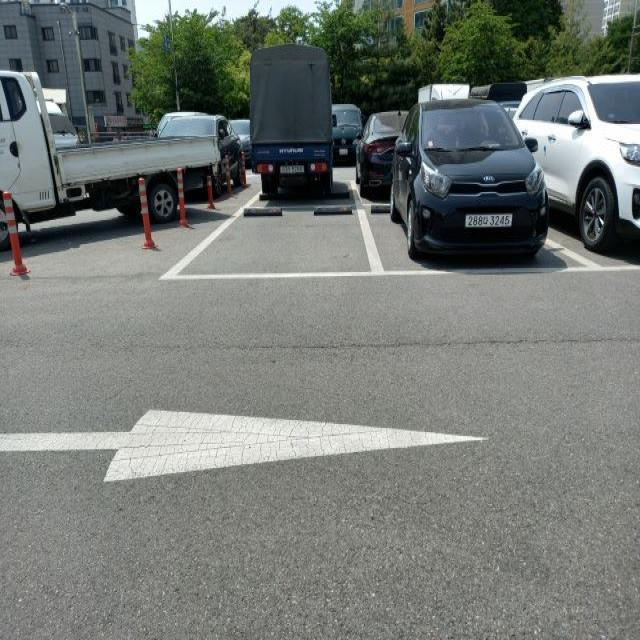Car: (390, 98, 552, 268), (514, 76, 640, 255), (245, 46, 338, 197)
Vacant: (160, 205, 387, 281)
